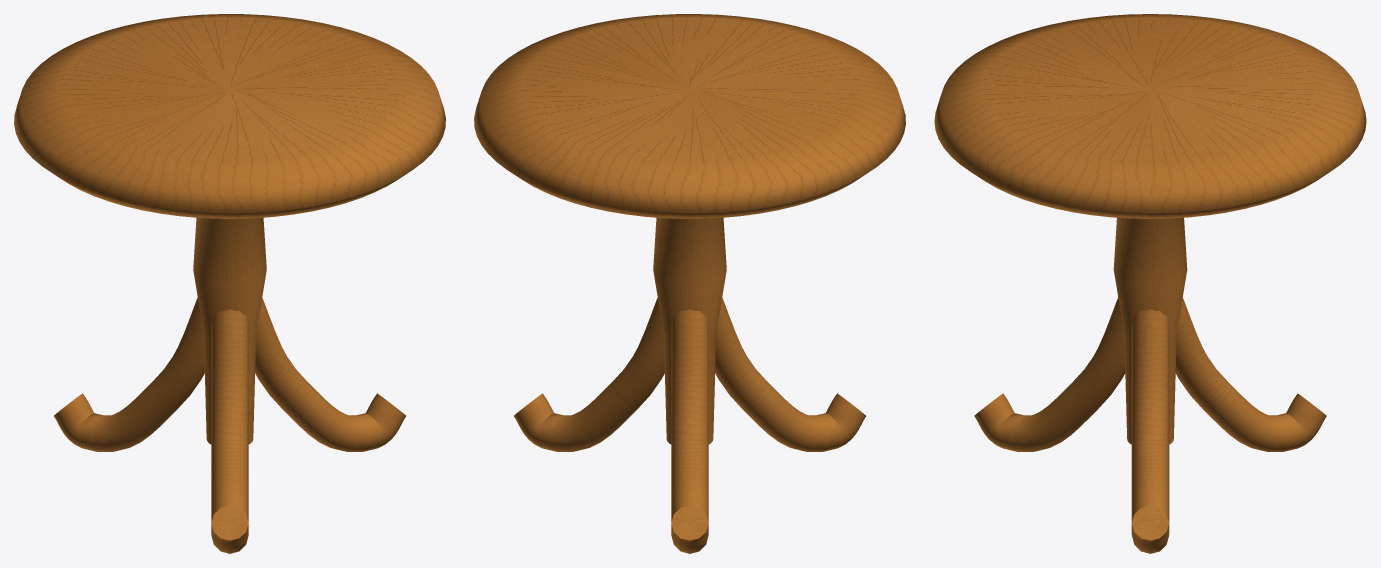
The model's file is table-speaker-base.glb.
3 renders of one model, left to right at view 1: azimuth 30°, elevation 25°; view 2: azimuth 150°, elevation 25°; view 3: azimuth 270°, elevation 25°, orthographic.
Parts seen in each view (by area): view 1: table_warm wood; view 2: table_warm wood; view 3: table_warm wood.
Part boxes in pixels (x1,y1,x2,y2): table_warm wood: (14, 14, 445, 553); table_warm wood: (474, 14, 905, 553); table_warm wood: (934, 14, 1366, 553).
Bounding box in the file's own units: 0.74 × 0.7418 × 0.74.
Materials: 1 (1 with a texture image).
